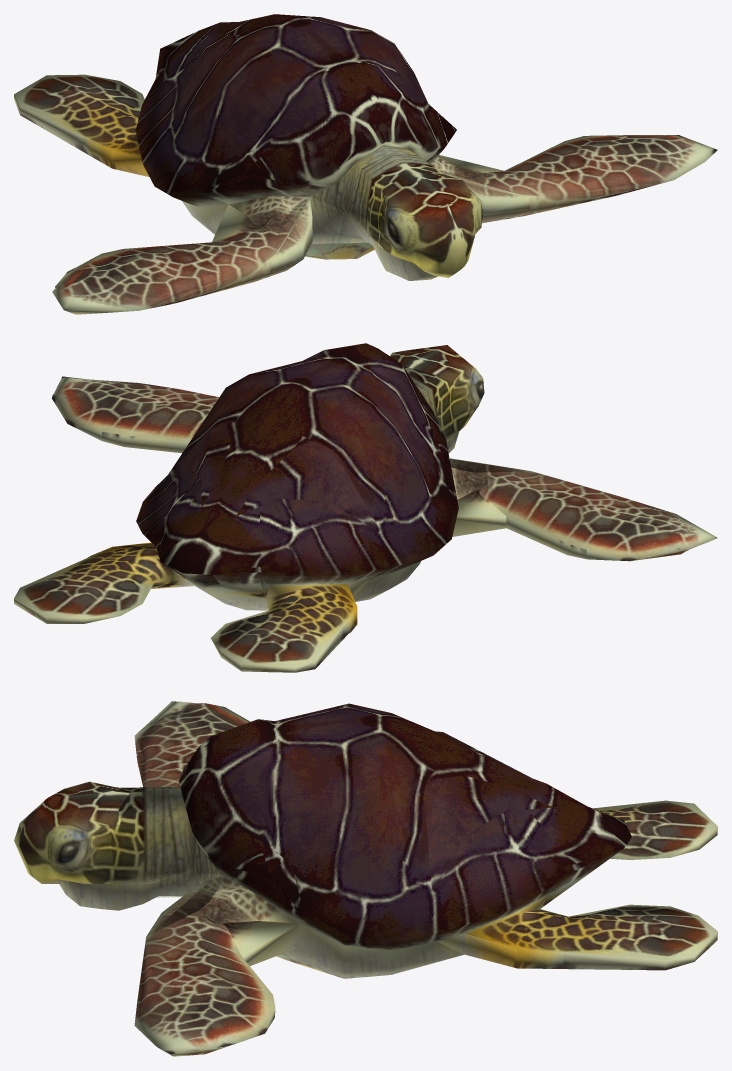
File: tortuga.obj
3 renders of one model, top to bottom at view 1: azimuth 30°, elevation 25°; view 2: azimuth 150°, elevation 25°; view 3: azimuth 270°, elevation 25°, orthographic. The views are drawn at different scales.
Parts seen in each view (by area): view 1: female_Mesh; view 2: female_Mesh; view 3: female_Mesh.
Part boxes in pixels (x1,y1,x2,y2): female_Mesh: [14, 14, 717, 314]; female_Mesh: [14, 343, 717, 672]; female_Mesh: [14, 701, 717, 1056].
Bounding box in the file's own units: 8.44 × 2.5 × 7.09.
3 materials, 3 textured.
